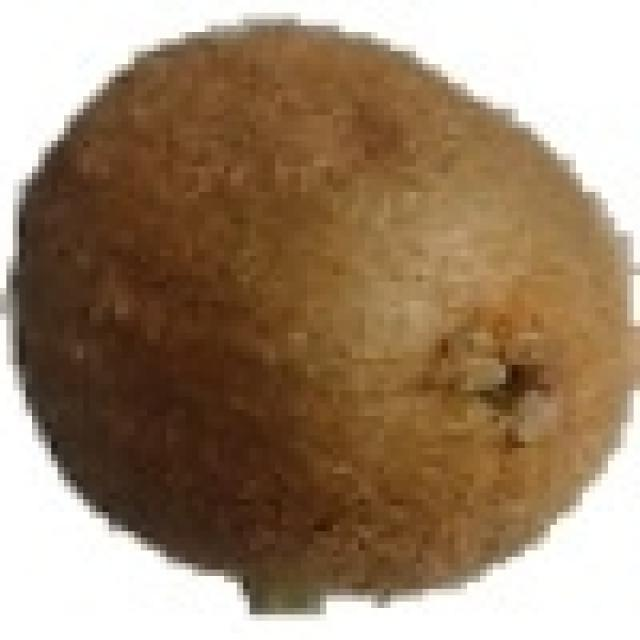kiwi: (26, 13, 640, 602)
